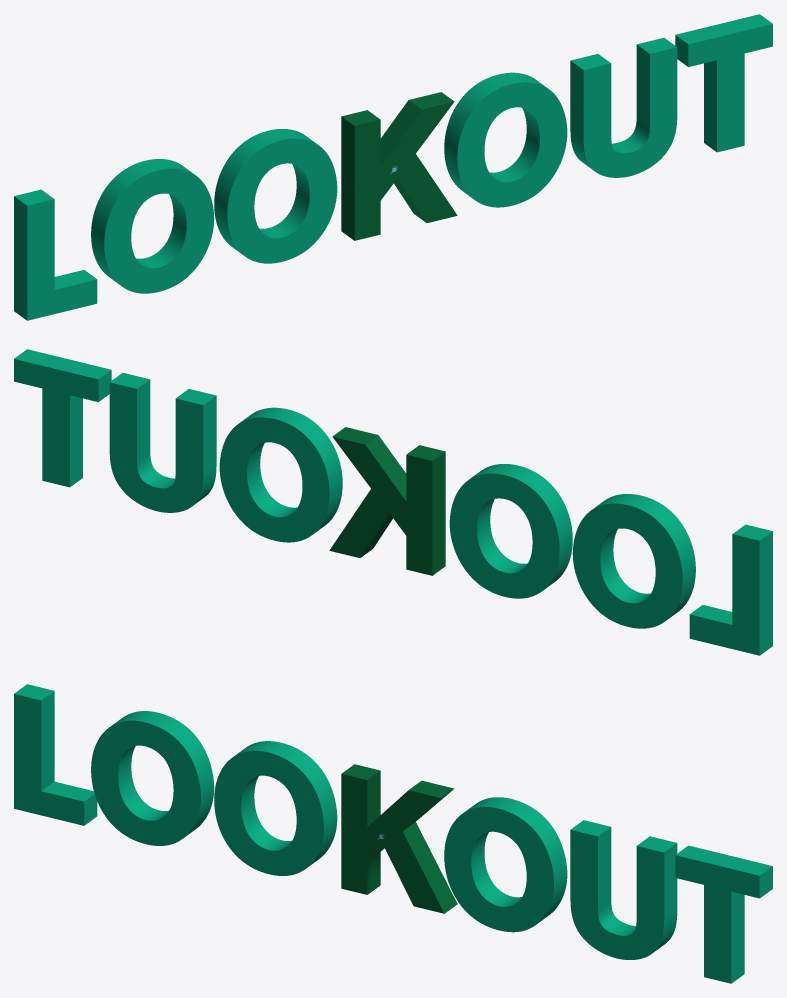
Rendered from Lookout_Oct2.gltf.
3 renders of one model, top to bottom at view 1: azimuth 30°, elevation 25°; view 2: azimuth 150°, elevation 25°; view 3: azimuth 330°, elevation 25°, orthographic.
Size of the model in its own units: 1.57 by 0.2443 by 0.048.
Materials: 7 (1 with a texture image).
